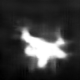plane: (17, 25, 70, 72)
